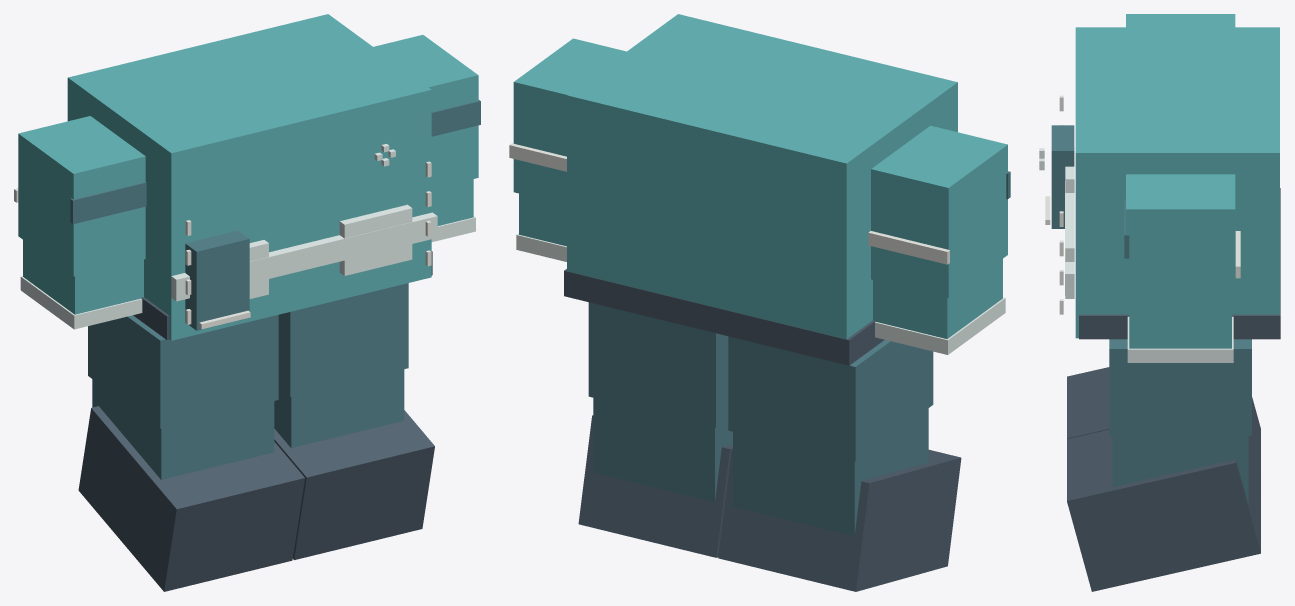
The model's file is workwear-teal.glb.
3 views of the same model, side by side, from view 1: azimuth 30°, elevation 25°; view 2: azimuth 150°, elevation 25°; view 3: azimuth 270°, elevation 25° (orthographic). The views are drawn at different scales.
Visible parts, largest first — view 1: jacket, shoe-Right, trouser-Right, upper-sleeve-Right, shoe-Left, trouser-Left, lower-trouser-Right, lower-trouser-Left, upper-sleeve-Left, tool-pocket, reflective-band, lower-sleeve-Right (+8 smaller); view 2: jacket, trouser-Right, shoe-Right, upper-sleeve-Right, trouser-Left, lower-trouser-Right, lower-trouser-Left, shoe-Left, upper-sleeve-Left, utility-belt, lower-sleeve-Right, cuff-Right (+4 smaller); view 3: jacket, shoe-Left, upper-sleeve-Left, trouser-Left, lower-trouser-Left, lower-sleeve-Left, shoe-Right, utility-belt, tool-pocket, cuff-Left, upper-sleeve-Right, reflective-band (+1 smaller).
Boxes of the visible parts, <box> form: jacket: <box>67,14,431,340</box>; shoe-Right: <box>78,406,304,591</box>; trouser-Right: <box>88,315,278,428</box>; upper-sleeve-Right: <box>18,116,145,276</box>; shoe-Left: <box>274,410,434,560</box>; trouser-Left: <box>278,283,408,396</box>; lower-trouser-Right: <box>92,379,274,479</box>; lower-trouser-Left: <box>274,369,404,448</box>; upper-sleeve-Left: <box>373,35,478,188</box>; tool-pocket: <box>185,230,249,330</box>; reflective-band: <box>171,212,437,301</box>; lower-sleeve-Right: <box>23,240,143,314</box>; jacket: <box>567,14,957,339</box>; trouser-Right: <box>728,336,933,461</box>; shoe-Right: <box>718,449,961,591</box>; upper-sleeve-Right: <box>871,125,1007,298</box>; trouser-Left: <box>588,302,728,427</box>; lower-trouser-Right: <box>733,408,928,536</box>; lower-trouser-Left: <box>593,398,732,501</box>; shoe-Left: <box>578,415,732,557</box>; upper-sleeve-Left: <box>513,38,626,204</box>; utility-belt: <box>564,269,884,365</box>; lower-sleeve-Right: <box>873,259,1002,338</box>; cuff-Right: <box>875,297,1005,354</box>; jacket: <box>1075,27,1279,338</box>; shoe-Left: <box>1067,430,1260,591</box>; upper-sleeve-Left: <box>1126,174,1235,310</box>; trouser-Left: <box>1109,339,1251,435</box>; lower-trouser-Left: <box>1112,436,1248,503</box>; lower-sleeve-Left: <box>1129,310,1231,348</box>; shoe-Right: <box>1067,367,1260,490</box>; utility-belt: <box>1079,188,1280,339</box>; tool-pocket: <box>1051,125,1074,228</box>; cuff-Left: <box>1127,316,1233,362</box>; upper-sleeve-Right: <box>1126,14,1235,27</box>; reflective-band: <box>1065,180,1074,295</box>.
Size of the model in its own units: 1.08 by 1.13 by 0.56.
